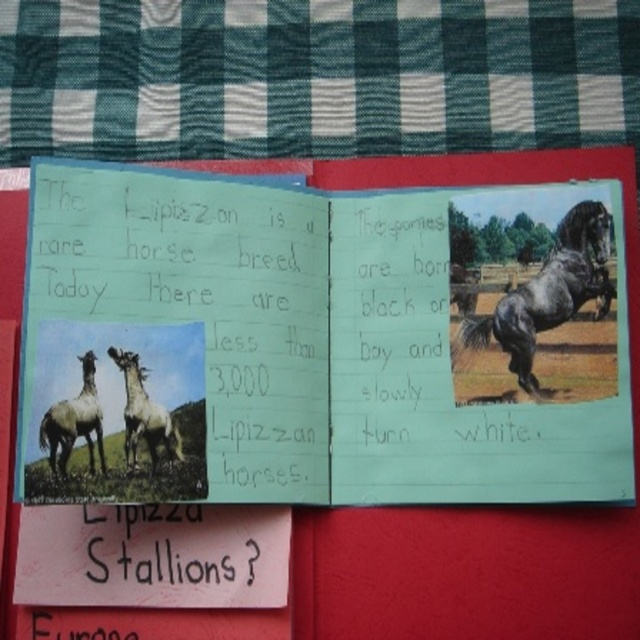Horse: (449, 200, 617, 402), (110, 347, 186, 478), (37, 349, 109, 486)
